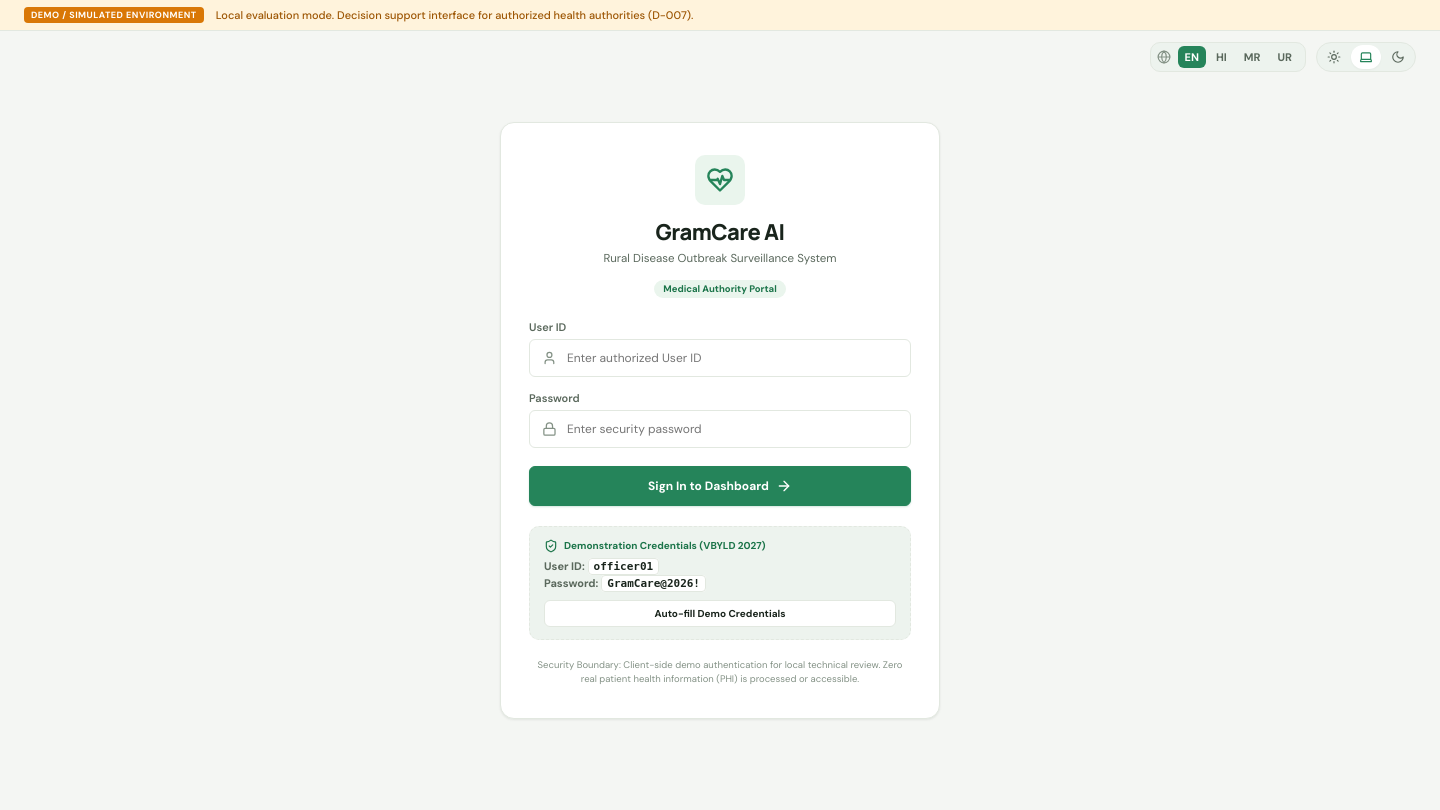
Test case: GramCare AI Dashboard MVP — 100+ Synthetic Patients & Authentication Verification › Authentication & Protected Route Security › rejects invalid credentials with generic error message
Type "wrong_user" into the field with test id "login-user-id".
click(732, 358); type("wrong_user")  # box [567, 340, 898, 376]
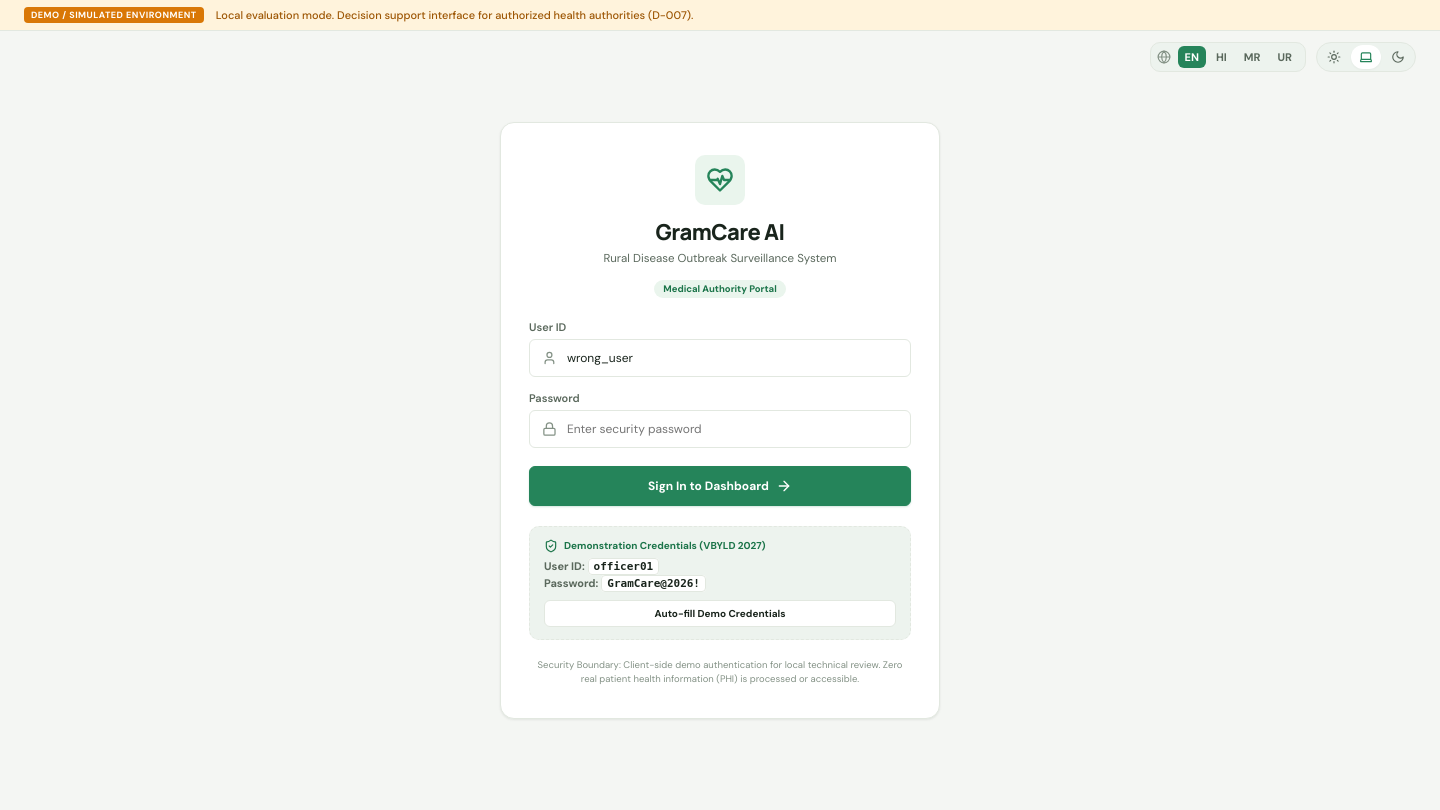
Type "wrong_password" into the password field with test id "login-password".
click(732, 429); type("wrong_password")  # box [567, 411, 898, 447]
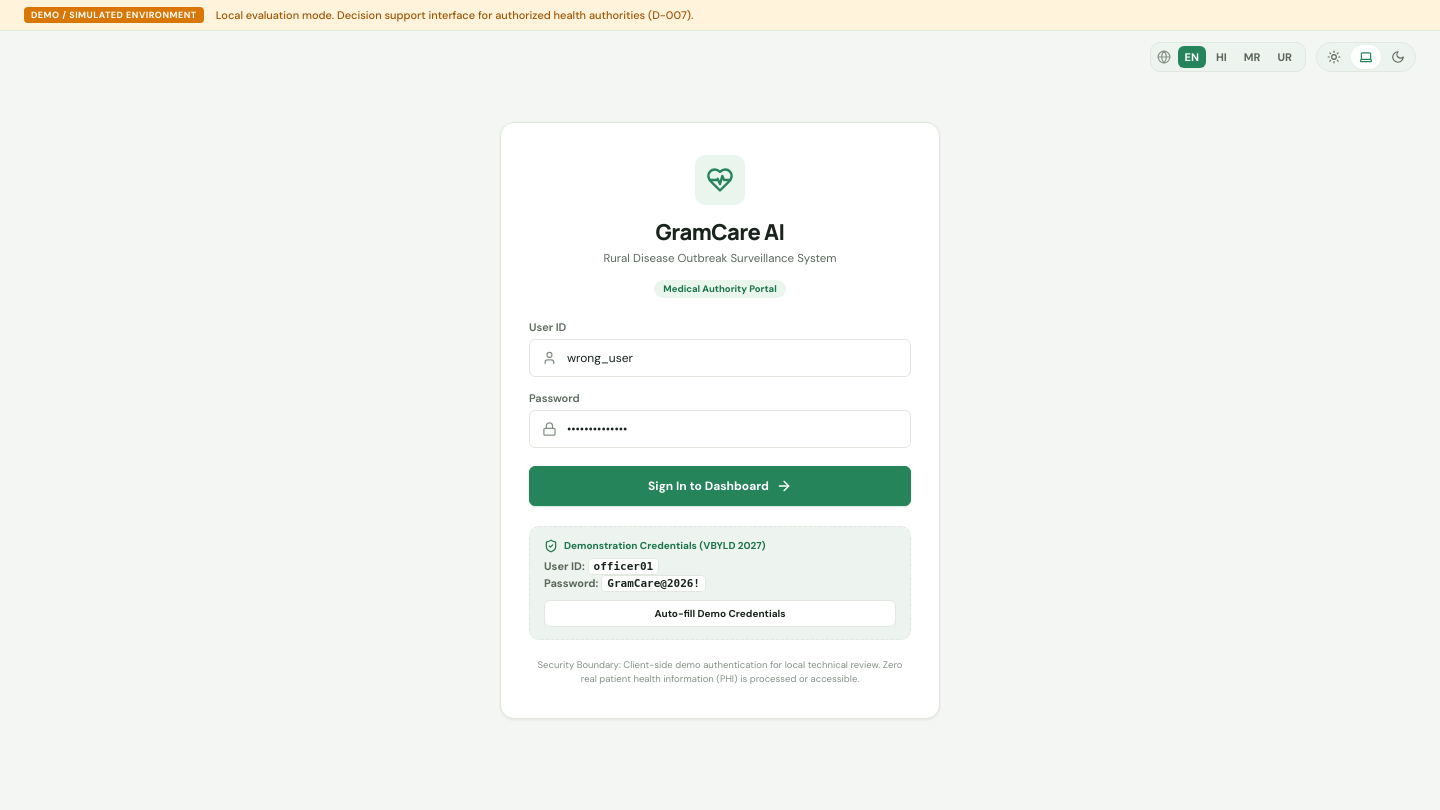
Click the button with test id "login-submit-button".
click(720, 486)  # box [529, 466, 911, 506]
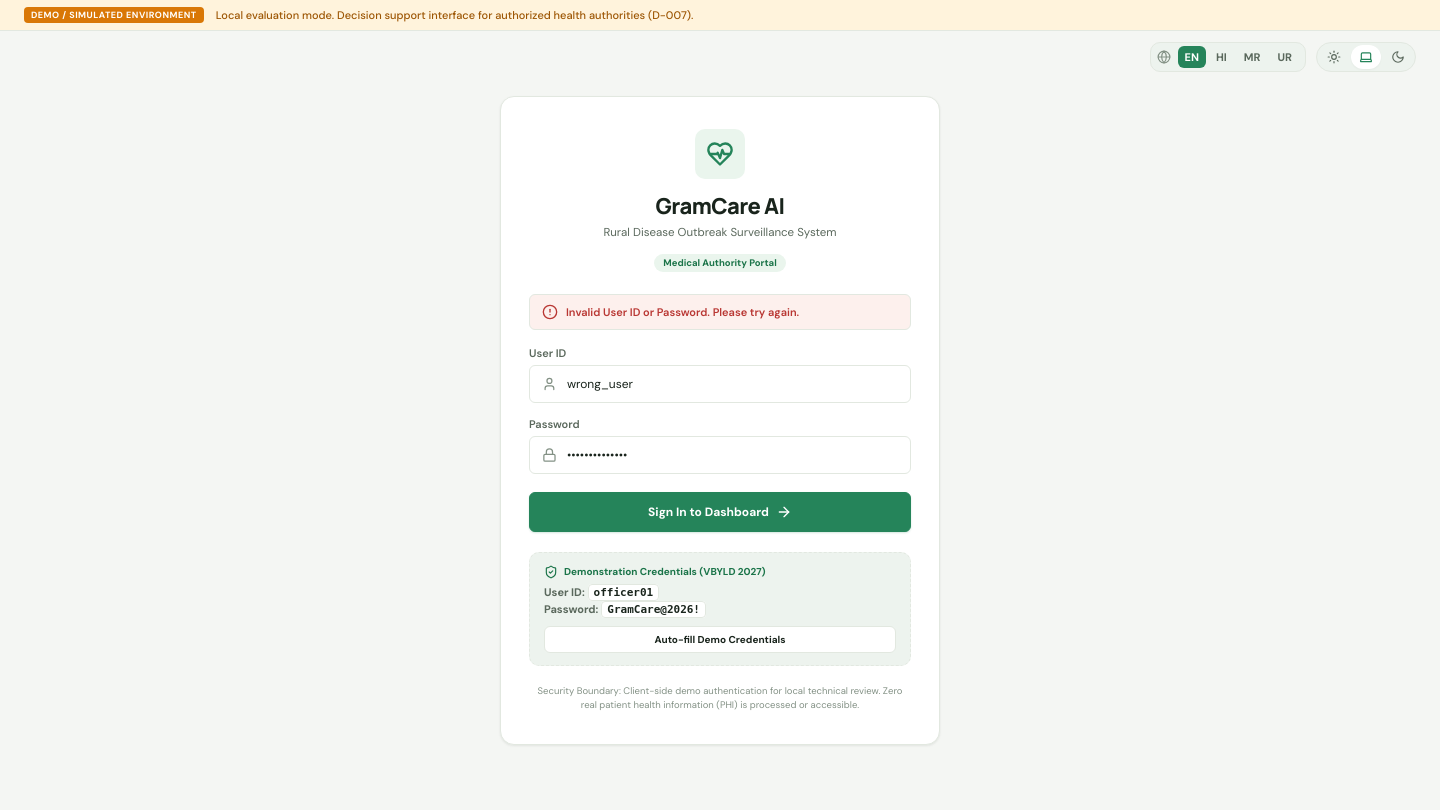
Check: the message "Invalid User ID or Password. Please try again." is shown, box [529, 294, 911, 330]
Check: the message with test id "login-error-message" reads "Invalid User ID or Password. Please try again.", box [566, 305, 799, 319]
